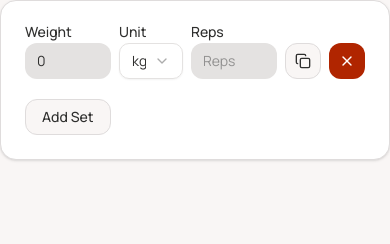
Scenario: AddSets › copies the weight value when duplicating a weighted set
Replace the text in the number field with placeholder "Weight" with "80" at point(68, 61), box [25,43,111,79]
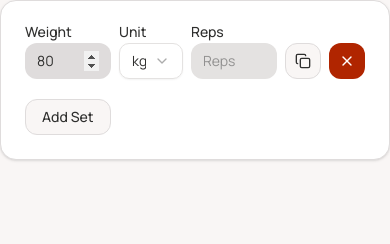
Click the button named "Duplicate set 1".
click(303, 61)  # box [285,43,321,79]
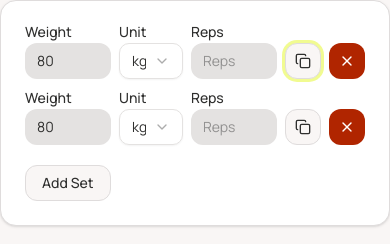
Check: the number of number fields with placeholder "Weight" is 2, box [25,43,111,79]; [25,109,111,145]
Check: the 2nd number field with placeholder "Weight" holds "80", box [25,109,111,145]
